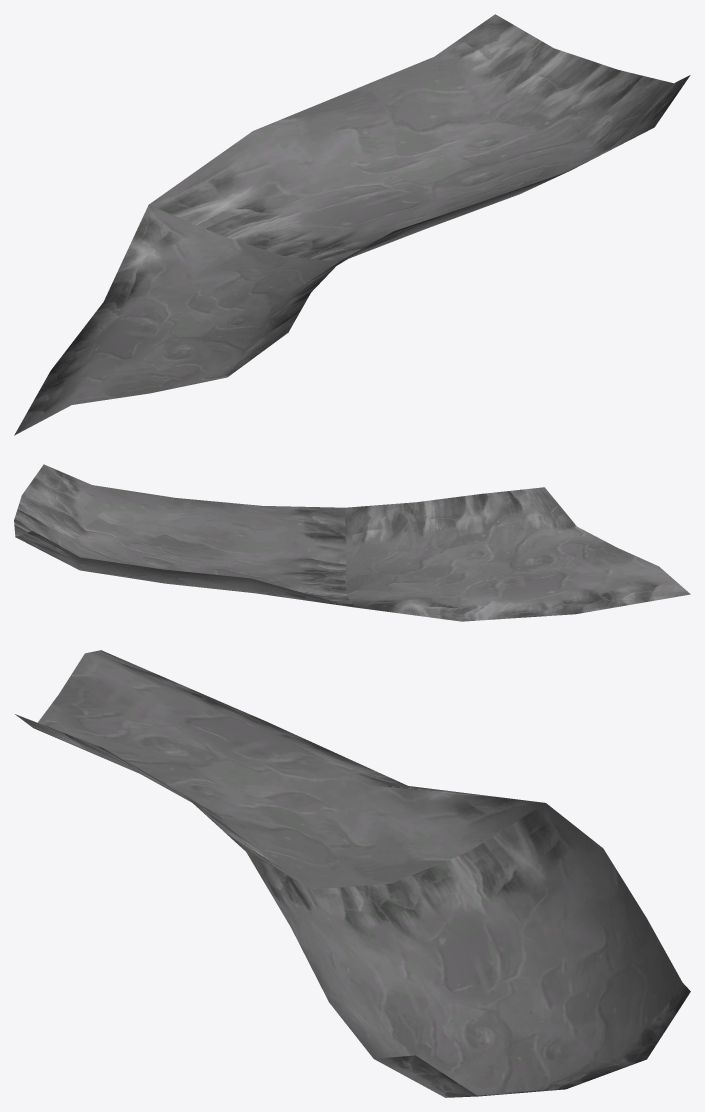
File: SWORDLIGHT20_PS-AREA03_27.fbx
3 renders of one model, top to bottom at view 1: azimuth 30°, elevation 25°; view 2: azimuth 150°, elevation 25°; view 3: azimuth 270°, elevation 25°, orthographic. The views are drawn at different scales.
Parts seen in each view (by area): view 1: SWORDLIGHT20_PS-AREA03_27; view 2: SWORDLIGHT20_PS-AREA03_27; view 3: SWORDLIGHT20_PS-AREA03_27.
Part boxes in pixels (x1,y1,x2,y2): SWORDLIGHT20_PS-AREA03_27: (14,14,690,435); SWORDLIGHT20_PS-AREA03_27: (14,464,690,621); SWORDLIGHT20_PS-AREA03_27: (15,650,690,1097).
Bounding box in the file's own units: 150972 × 16029 × 84390.
2 materials, 2 textured.
